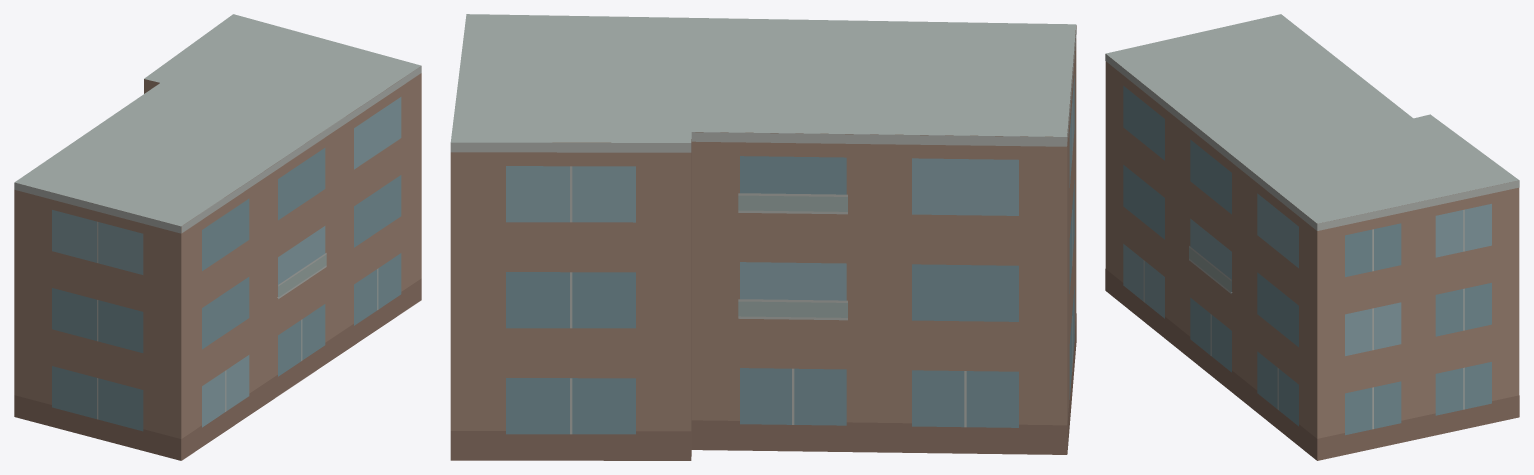
File: survey-upis-32489934.glb
The picture shows the model from 3 angles, left to right: view 1: azimuth 30°, elevation 25°; view 2: azimuth 150°, elevation 25°; view 3: azimuth 270°, elevation 25°; orthographic projection. The views are drawn at different scales.
Parts seen in each view (by area): view 1: survey-upis-32489934.tmp; view 2: survey-upis-32489934.tmp; view 3: survey-upis-32489934.tmp.
Part boxes in pixels (box(x1,y1,x2,y2)): survey-upis-32489934.tmp: box(14, 14, 421, 460); survey-upis-32489934.tmp: box(450, 14, 1076, 460); survey-upis-32489934.tmp: box(1105, 14, 1519, 460).
Bounding box in the file's own units: 15 × 7.9 × 12.51.
